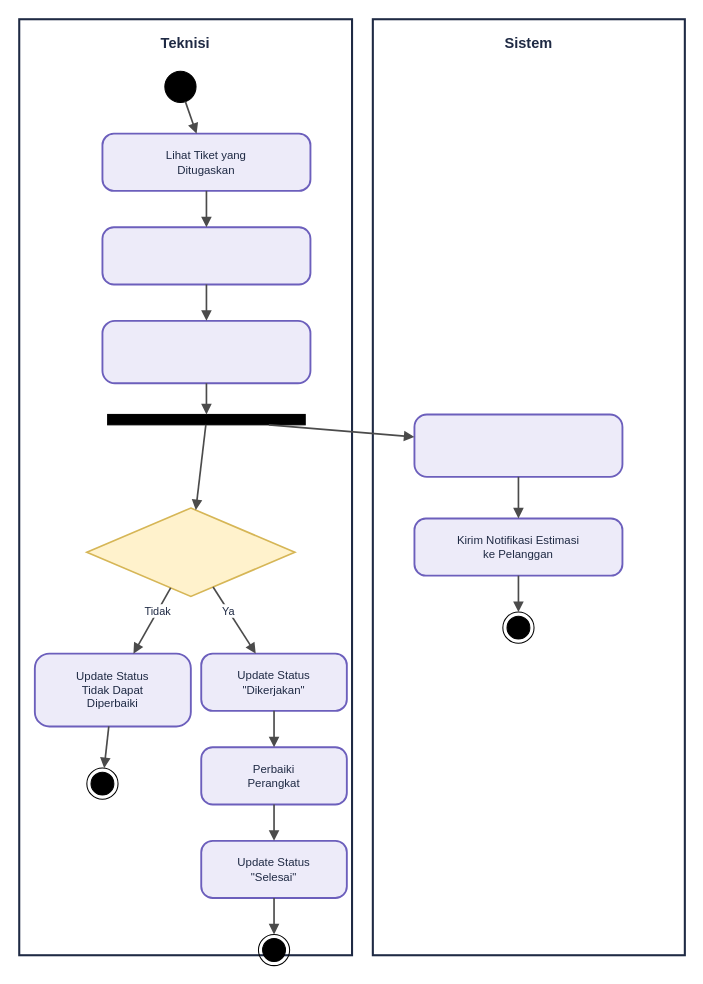
Some shapes in this 703 by 984 pixel diagram are drawn without their labels. Each missing label, with the centre of its shape:
"Diagnosa Perangkat" belongs at pixel 206 255.
"Input Estimasi Biaya & Sparepart" belongs at pixel 206 351.
"Perangkat Dapat Diperbaiki?" belongs at pixel 190 552.
"Simpan Data Diagnosa & Estimasi Biaya" belongs at pixel 518 445.
